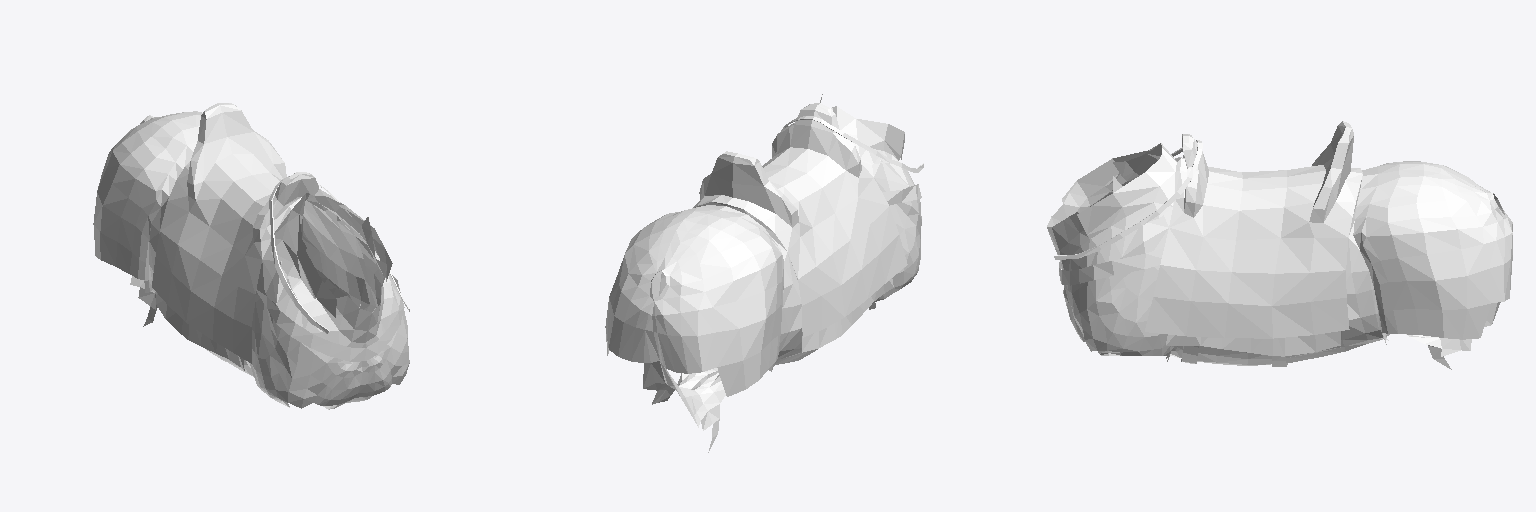
Rendered from torso.obj.
The picture shows the model from 3 angles: view 1: azimuth 30°, elevation 25°; view 2: azimuth 150°, elevation 25°; view 3: azimuth 270°, elevation 25°; orthographic projection.
Visible parts, largest first — view 1: horse; view 2: horse; view 3: horse.
Part boxes in pixels (bbox=[...]): horse: bbox=[93, 103, 409, 409]; horse: bbox=[605, 94, 923, 452]; horse: bbox=[1047, 121, 1512, 369].
Bounding box in the file's own units: 28.91 × 46.49 × 77.15.